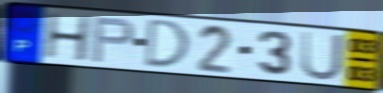2: (195, 23, 236, 76)
3: (255, 29, 295, 77)
D: (142, 17, 192, 69)
H: (41, 12, 92, 63)
P: (89, 16, 137, 64)
U: (300, 29, 346, 83)
